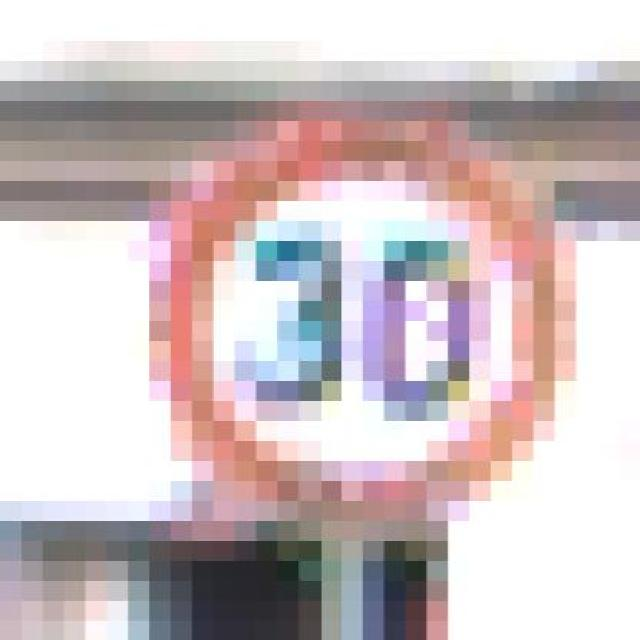Speed Limit 30 KMPh: (86, 100, 620, 580)
